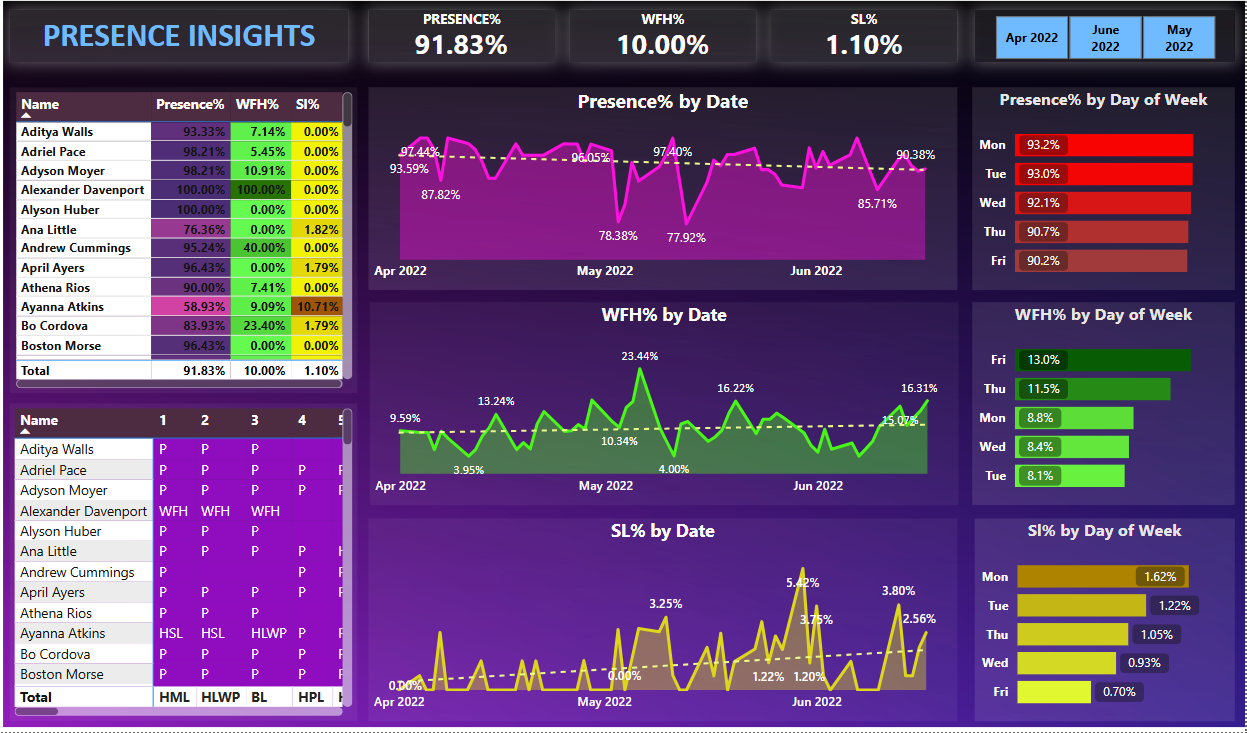

What the dashboard file says about the page in this screenshot:
{"tool":"powerbi","page":{"name":"HOME","canvas":[1280,720],"ordinal":0},"visuals":[{"type":"image","box":[0,0,1389.9,720],"z":0},{"type":"slicer","fields":{"Values":["Final Data.Sheet Name"]},"box":[1015.8,13.4,254.3,51.3],"z":1000},{"type":"card","title":"WFH%","fields":{"Values":["Measure Table.WFH%"]},"box":[619.8,13.4,182.1,51.3],"z":2000},{"type":"card","title":"PRESENCE%","fields":{"Values":["Measure Table.Presence%"]},"box":[423,13.4,182.1,51.3],"z":3000},{"type":"card","title":"SL%","fields":{"Values":["Measure Table.Sl%"]},"box":[816.6,13.4,182.1,51.3],"z":4000},{"type":"tableEx","fields":{"Values":["Final Data.Name","Measure Table.Presence%","Measure Table.WFH%","Measure Table.Sl%"]},"box":[72.1,89.3,339.9,299.6],"z":5000},{"type":"textbox","box":[72.1,13.4,331.3,51.3],"z":6000},{"type":"pivotTable","fields":{"Rows":["Final Data.Name"],"Values":["Min(Final Data.Value)"],"Columns":["Final Data.Date.Variation.Date Hierarchy.Day"]},"box":[72.1,398.6,339.9,310.6],"z":7000},{"type":"areaChart","fields":{"Category":["Final Data.Date"],"Y":["Measure Table.Presence%"]},"box":[423,89.2,575.8,198],"z":8000},{"type":"areaChart","fields":{"Category":["Final Data.Date"],"Y":["Measure Table.WFH%"]},"box":[424.2,299.5,575.8,198],"z":9000},{"type":"areaChart","title":"SL% by Date","fields":{"Category":["Final Data.Date"],"Y":["Measure Table.Sl%"]},"box":[423,511,575.8,198],"z":10000},{"type":"clusteredBarChart","fields":{"Category":["Final Data.Day of Week"],"Y":["Measure Table.Presence%"]},"box":[1013.4,89.2,256.7,198],"z":11000},{"type":"clusteredBarChart","fields":{"Category":["Final Data.Day of Week"],"Y":["Measure Table.WFH%"]},"box":[1013.4,299.5,256.7,198],"z":12000},{"type":"clusteredBarChart","fields":{"Category":["Final Data.Day of Week"],"Y":["Measure Table.Sl%"]},"box":[1015.8,511,254.3,198],"z":13000}]}

Visuals, with their boxes on the page's 1280x720 design canvas (x1, y1, x2, y2). These are canvas units, not pixel positions in the 1247x733 screenshot, which may show the page scaled, cropped or inside an application window:
image: crop(0, 0, 1390, 720)
slicer - Final Data.Sheet Name: crop(1016, 13, 1270, 65)
"WFH%" card: crop(620, 13, 802, 65)
"PRESENCE%" card: crop(423, 13, 605, 65)
"SL%" card: crop(817, 13, 999, 65)
tableEx - Final Data.Name x Measure Table.Presence%: crop(72, 89, 412, 389)
textbox: crop(72, 13, 403, 65)
pivotTable - Final Data.Name x Min(Final Data.Value): crop(72, 399, 412, 709)
areaChart - Final Data.Date x Measure Table.Presence%: crop(423, 89, 999, 287)
areaChart - Final Data.Date x Measure Table.WFH%: crop(424, 300, 1000, 498)
"SL% by Date" areaChart: crop(423, 511, 999, 709)
clusteredBarChart - Final Data.Day of Week x Measure Table.Presence%: crop(1013, 89, 1270, 287)
clusteredBarChart - Final Data.Day of Week x Measure Table.WFH%: crop(1013, 300, 1270, 498)
clusteredBarChart - Final Data.Day of Week x Measure Table.Sl%: crop(1016, 511, 1270, 709)
